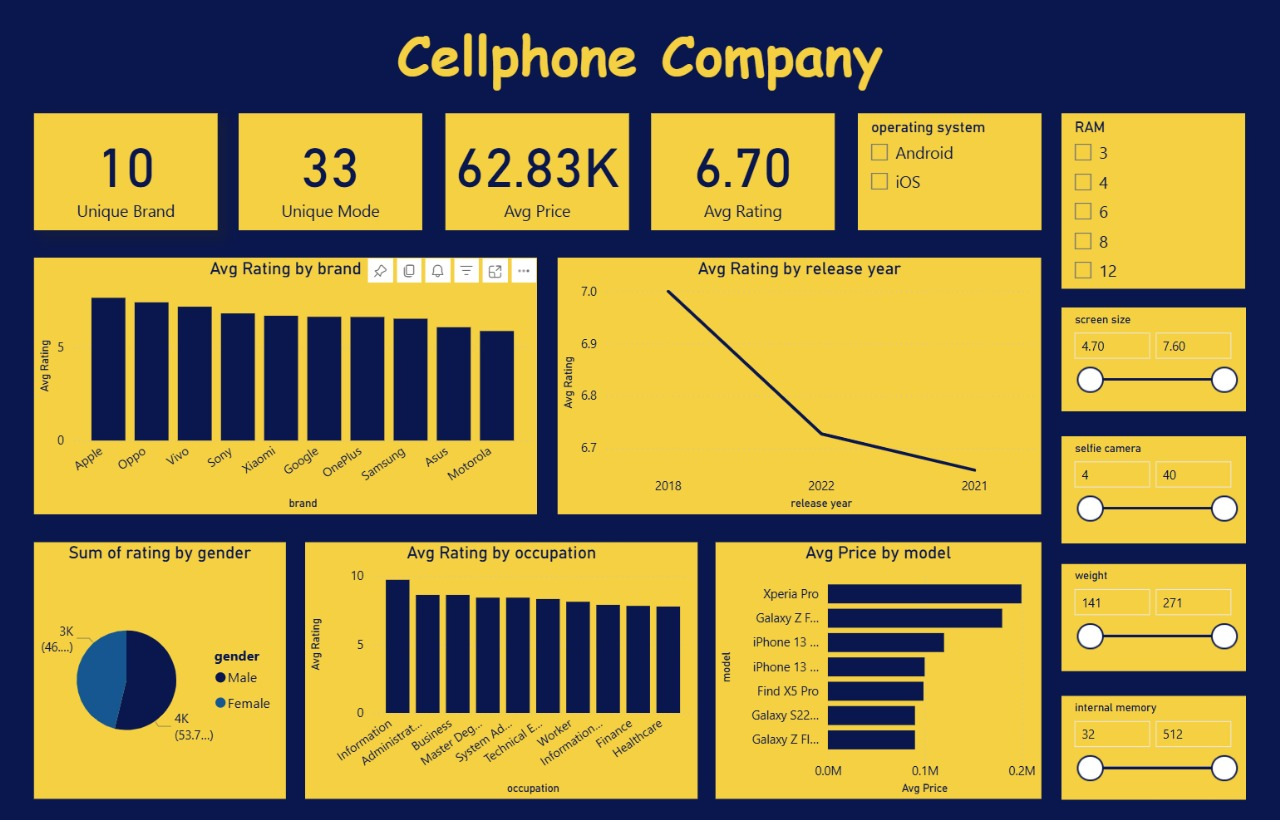

The page's visual inventory and layout, read from the dashboard file:
{"tool":"powerbi","page":{"name":"Page 1","canvas":[1280,810],"ordinal":0},"visuals":[{"type":"textbox","box":[0,11,1280.8,90.8],"z":0},{"type":"card","fields":{"Values":["cellphones_data.Unique Brand"]},"box":[43.9,111.1,181.1,115.3],"z":1000},{"type":"card","fields":{"Values":["cellphones_data.Unique Mode;"]},"box":[245.6,111.1,181.1,115.3],"z":2000},{"type":"card","fields":{"Values":["cellphones_data.Avg Price"]},"box":[448.7,111.1,181.1,115.3],"z":3000},{"type":"card","fields":{"Values":["cellphones_data.Avg Rating"]},"box":[651.8,111.1,181.1,115.3],"z":4000},{"type":"columnChart","fields":{"Category":["cellphones_data.brand"],"Y":["cellphones_data.Avg Rating"]},"box":[44,253.1,495.2,253.1],"z":5000},{"type":"slicer","fields":{"Values":["cellphones_data.operating system"]},"box":[854.9,111.1,181.1,115.3],"z":6000},{"type":"slicer","fields":{"Values":["cellphones_data.RAM"]},"box":[1055.2,111.1,181.1,172.9],"z":7000},{"type":"slicer","fields":{"Values":["cellphones_data.screen size"]},"box":[1055.2,302.7,181.6,101.8],"z":8000},{"type":"slicer","fields":{"Values":["cellphones_data.selfie camera"]},"box":[1055.2,429.2,181.6,104.6],"z":9000},{"type":"barChart","fields":{"Category":["cellphones_data.model"],"Y":["cellphones_data.Avg Price"]},"box":[715.4,533.8,320.5,253.1],"z":10000},{"type":"pieChart","fields":{"Category":["cellphones_users.gender"],"Y":["Sum(cellphones_ratings.rating)"]},"box":[44,533.8,247.6,253.1],"z":11000},{"type":"columnChart","fields":{"Category":["cellphones_users.occupation"],"Y":["cellphones_data.Avg Rating"]},"box":[310.9,533.8,386.6,253.1],"z":12000},{"type":"slicer","fields":{"Values":["cellphones_data.weight"]},"box":[1055.2,555.8,181.6,104.6],"z":13000},{"type":"slicer","fields":{"Values":["cellphones_data.internal memory"]},"box":[1055.2,685.1,181.6,101.8],"z":14000},{"type":"lineChart","fields":{"Category":["cellphones_data.release year"],"Y":["cellphones_data.Avg Rating"]},"box":[559.9,253.1,476,253.1],"z":15000}]}

Visuals, with their boxes in screenshot pixels (x1, y1, x2, y2), scaled from the page's 1280x810 canvas onto the 1280x820 screenshot:
textbox: <bbox>0, 11, 1279, 103</bbox>
card - cellphones_data.Unique Brand: <bbox>44, 112, 225, 229</bbox>
card - cellphones_data.Unique Mode;: <bbox>246, 112, 427, 229</bbox>
card - cellphones_data.Avg Price: <bbox>449, 112, 630, 229</bbox>
card - cellphones_data.Avg Rating: <bbox>652, 112, 833, 229</bbox>
columnChart - cellphones_data.brand x cellphones_data.Avg Rating: <bbox>44, 256, 539, 512</bbox>
slicer - cellphones_data.operating system: <bbox>855, 112, 1036, 229</bbox>
slicer - cellphones_data.RAM: <bbox>1055, 112, 1236, 288</bbox>
slicer - cellphones_data.screen size: <bbox>1055, 306, 1237, 409</bbox>
slicer - cellphones_data.selfie camera: <bbox>1055, 434, 1237, 540</bbox>
barChart - cellphones_data.model x cellphones_data.Avg Price: <bbox>715, 540, 1036, 797</bbox>
pieChart - cellphones_users.gender x Sum(cellphones_ratings.rating): <bbox>44, 540, 292, 797</bbox>
columnChart - cellphones_users.occupation x cellphones_data.Avg Rating: <bbox>311, 540, 698, 797</bbox>
slicer - cellphones_data.weight: <bbox>1055, 563, 1237, 669</bbox>
slicer - cellphones_data.internal memory: <bbox>1055, 694, 1237, 797</bbox>
lineChart - cellphones_data.release year x cellphones_data.Avg Rating: <bbox>560, 256, 1036, 512</bbox>
